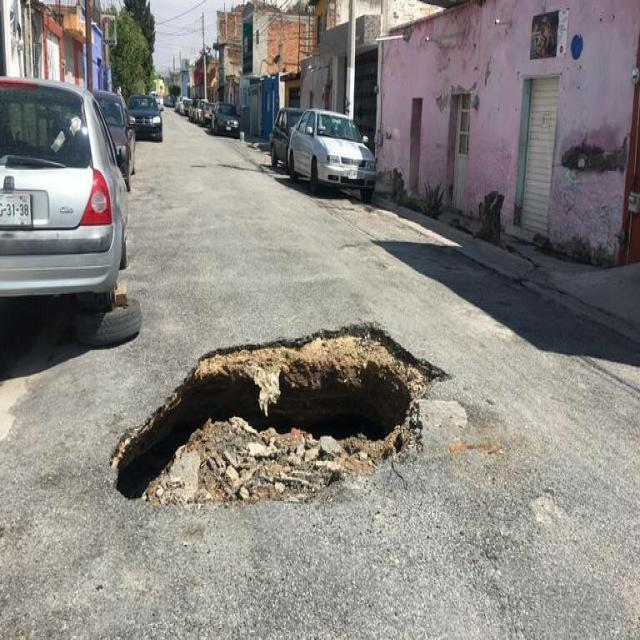Pothole: (98, 304, 448, 554)
